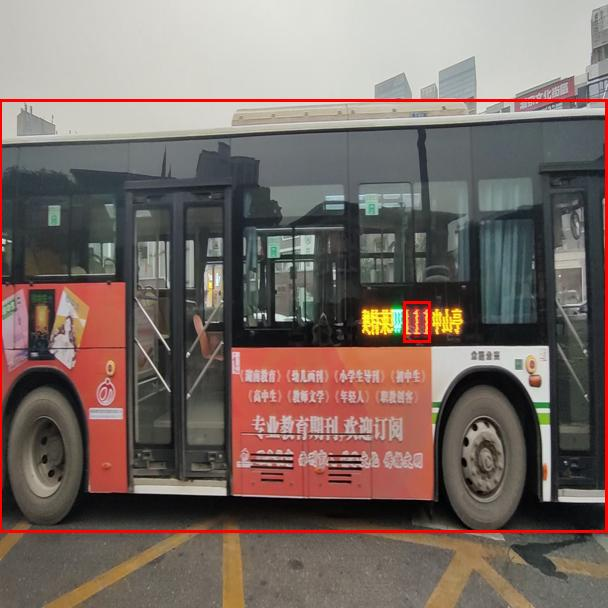screen: (403, 301, 430, 342)
